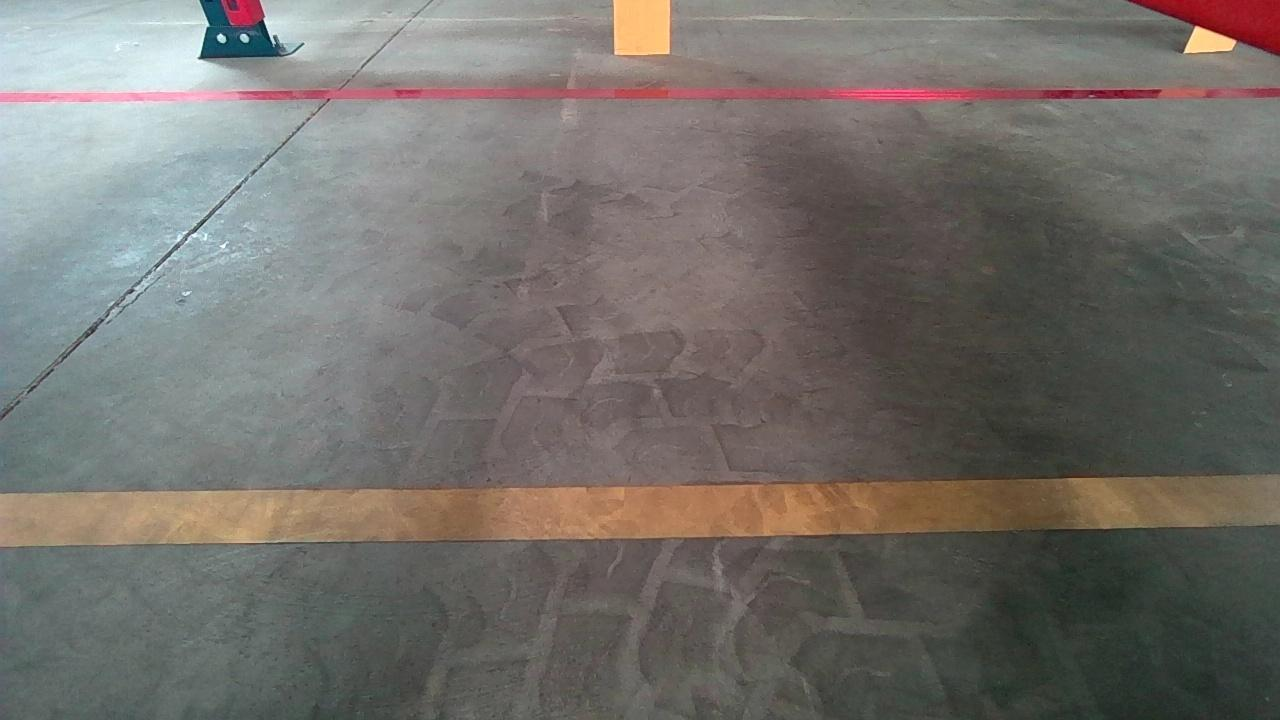red_line: (0, 84, 1280, 101)
yellow_line: (4, 474, 1280, 548)
